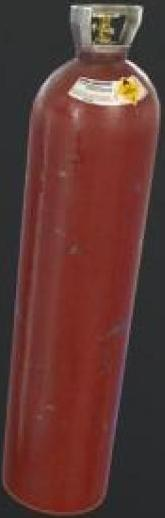cylinder: (0, 1, 165, 518)
